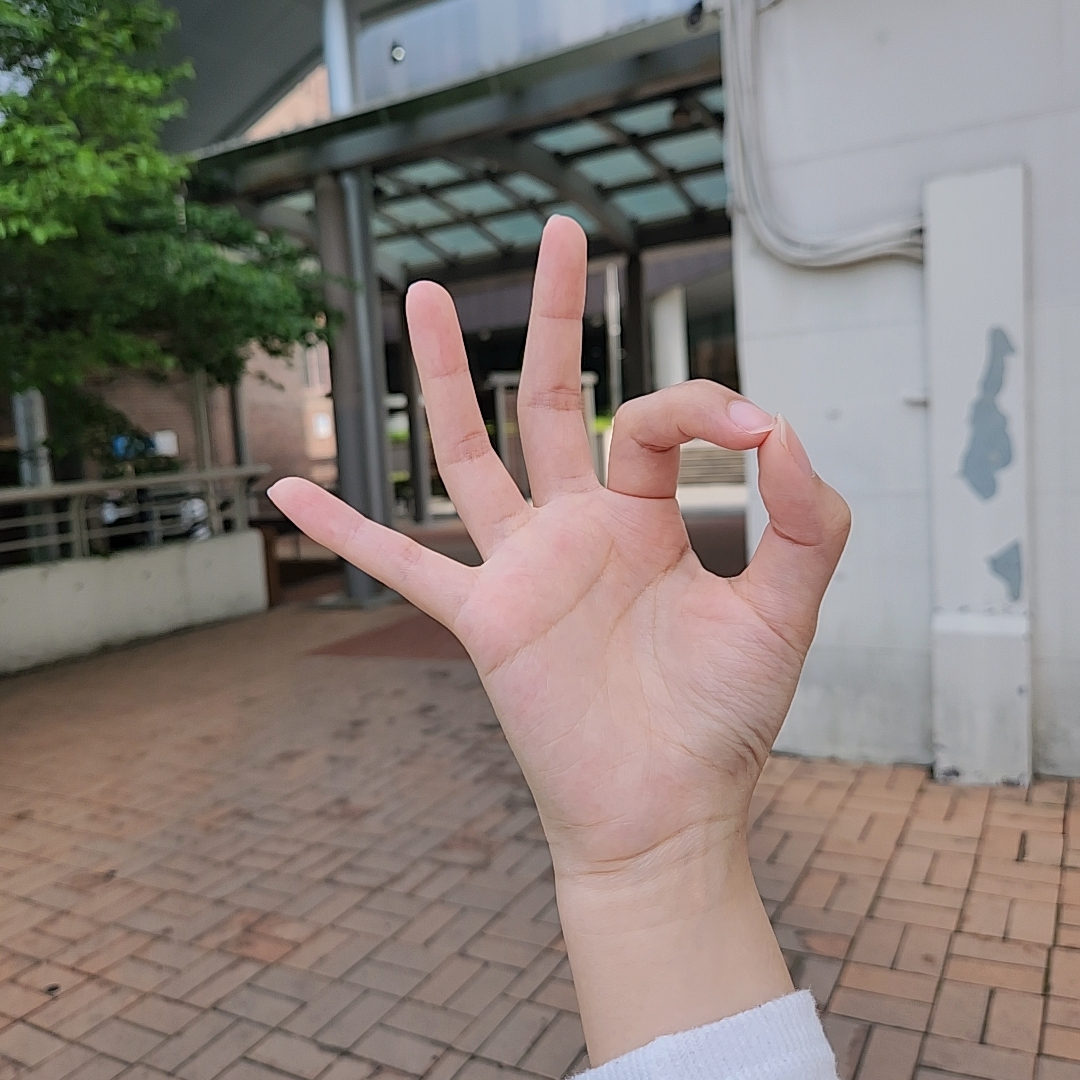see: (261, 214, 854, 816)
